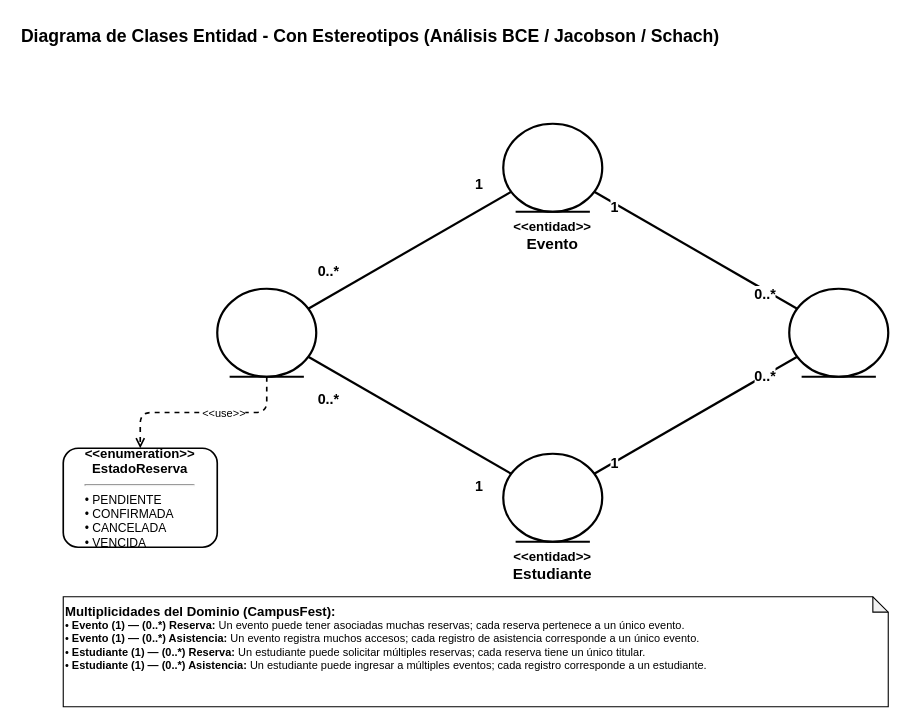
This 908x726 diagram has some shape labels left out. Here are the shapes that lost their labels. From the top down, the box of each, then its label:
(216, 287, 317, 377): <<entidad>> Reserva
(788, 287, 889, 377): <<entidad>> Asistencia
